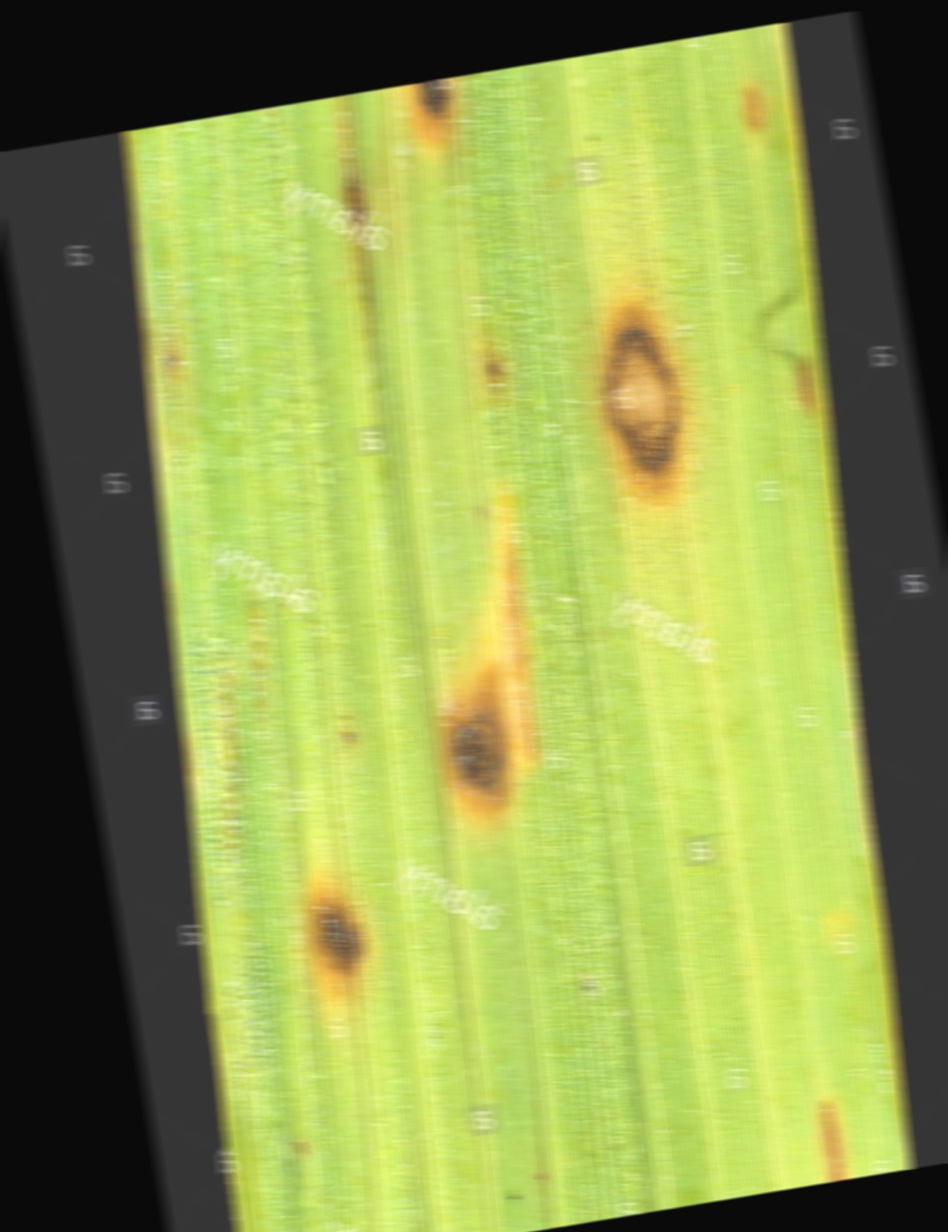Bacterial_Leaf_Blight: (412, 576, 571, 820), (569, 285, 699, 516), (295, 859, 380, 1030), (385, 82, 471, 181), (787, 1079, 861, 1187), (776, 347, 827, 433), (477, 318, 511, 399), (741, 66, 777, 142)
